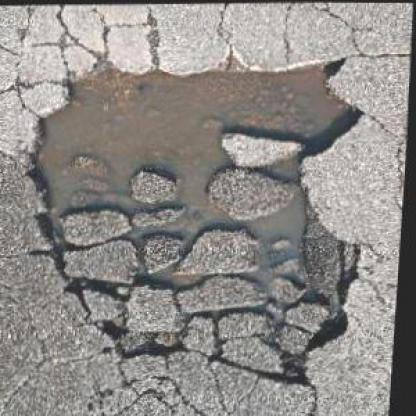pothole: (8, 49, 382, 396)
